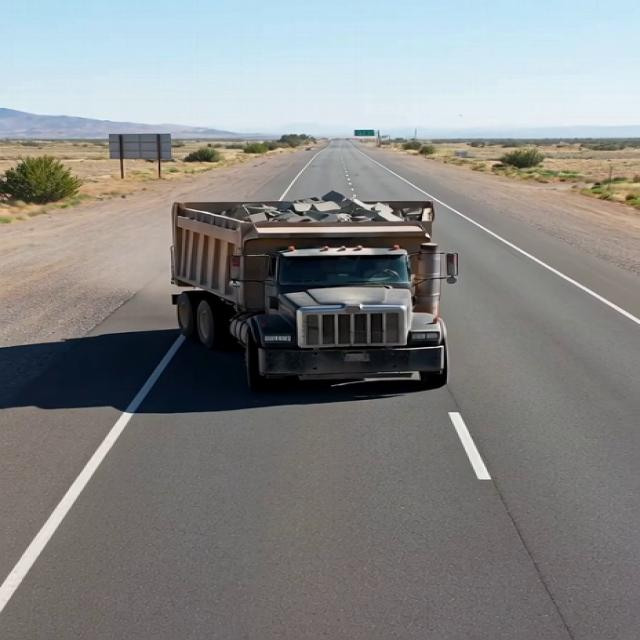Box: (170, 192, 445, 240)
Truck: (133, 176, 490, 397)
